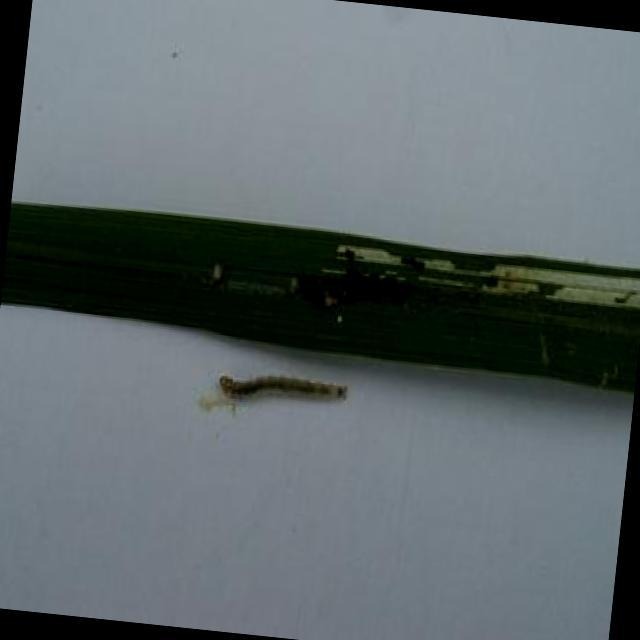leaf folder: (201, 374, 347, 410)
